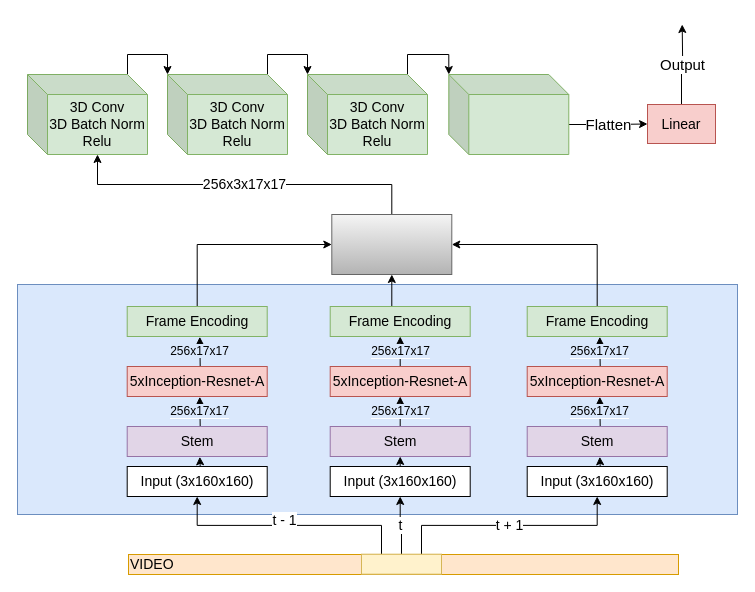
Image size: 755x592. Some labels were removed from this diagram. Each missing label, with the box of its shape:
3D Avarage Adaptive Pool: (448, 74, 569, 154)
Concatentation: (331, 214, 452, 274)
Shared Weights Inception Resnet: (16, 284, 738, 514)
WINDOW: (360, 553, 442, 574)
